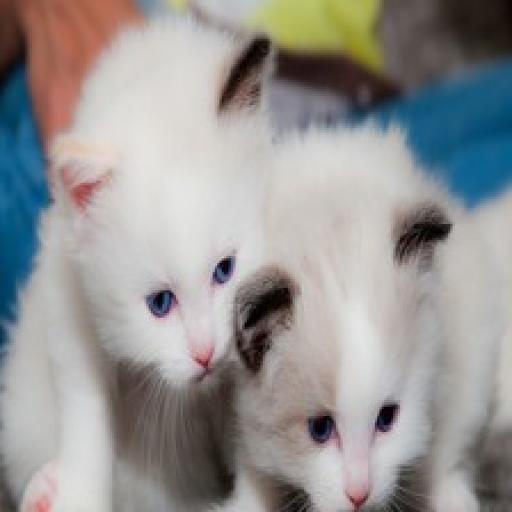cat: (0, 11, 281, 512), (239, 121, 512, 512)
